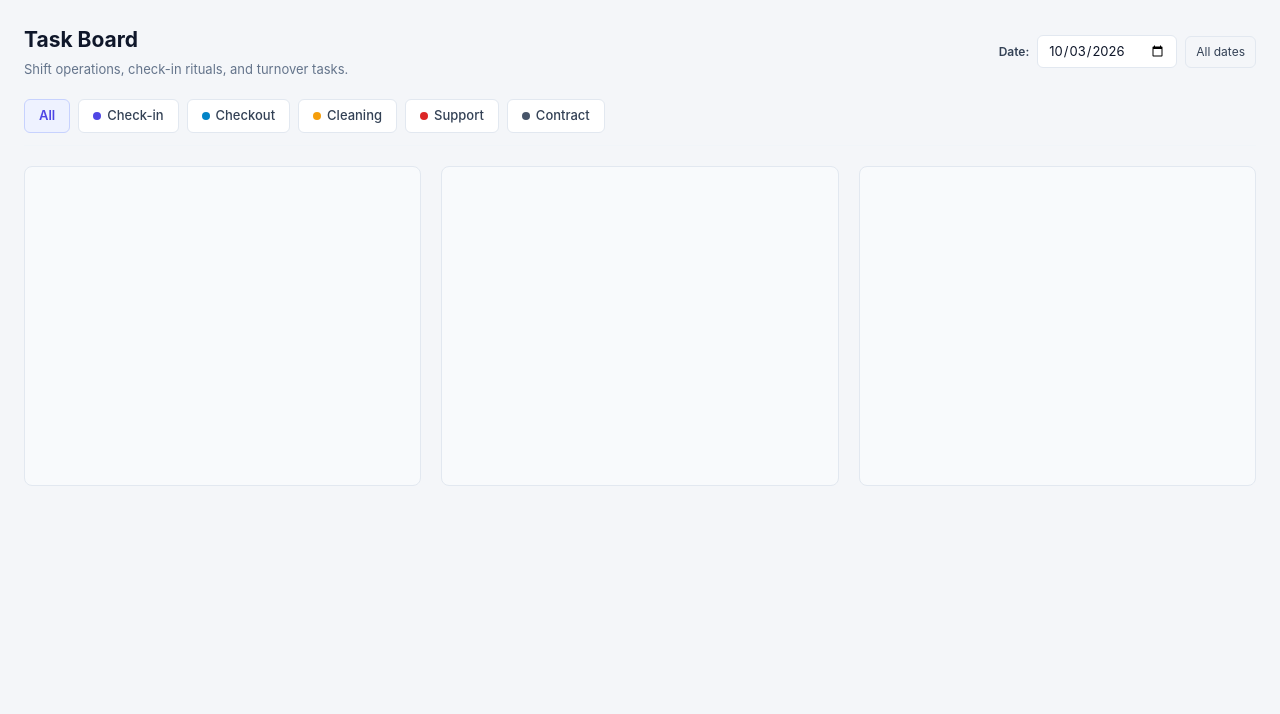
Test: Story 3.2: Kanban Task Board › moves task card to another column using accessible Move buttons and updates counts
Click the button with test id "all-dates-btn" at {"x": 1221, "y": 52}, box [1185,36,1256,68]
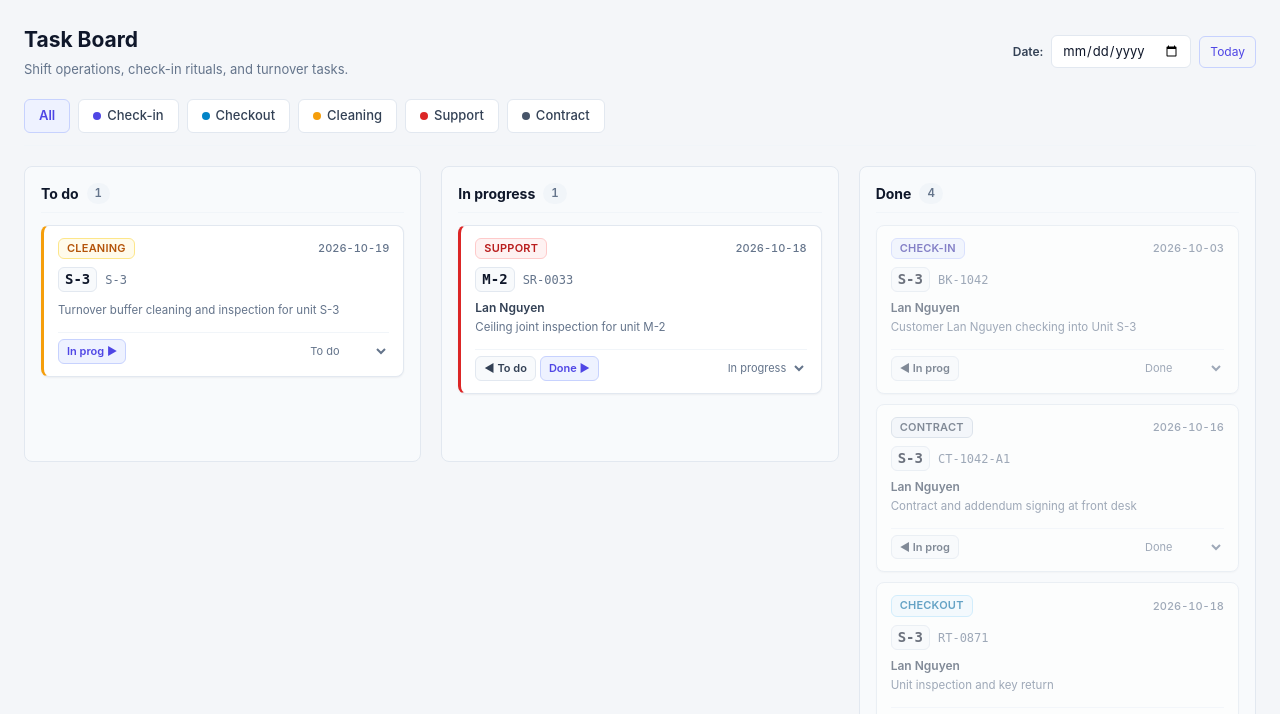
Check: the element with test id "task-card-4" is shown, box [41,225,404,377]
Check: the button with test id "move-right-4" is shown
Click the button with test id "move-right-4" at {"x": 92, "y": 351}, box [58,339,126,364]
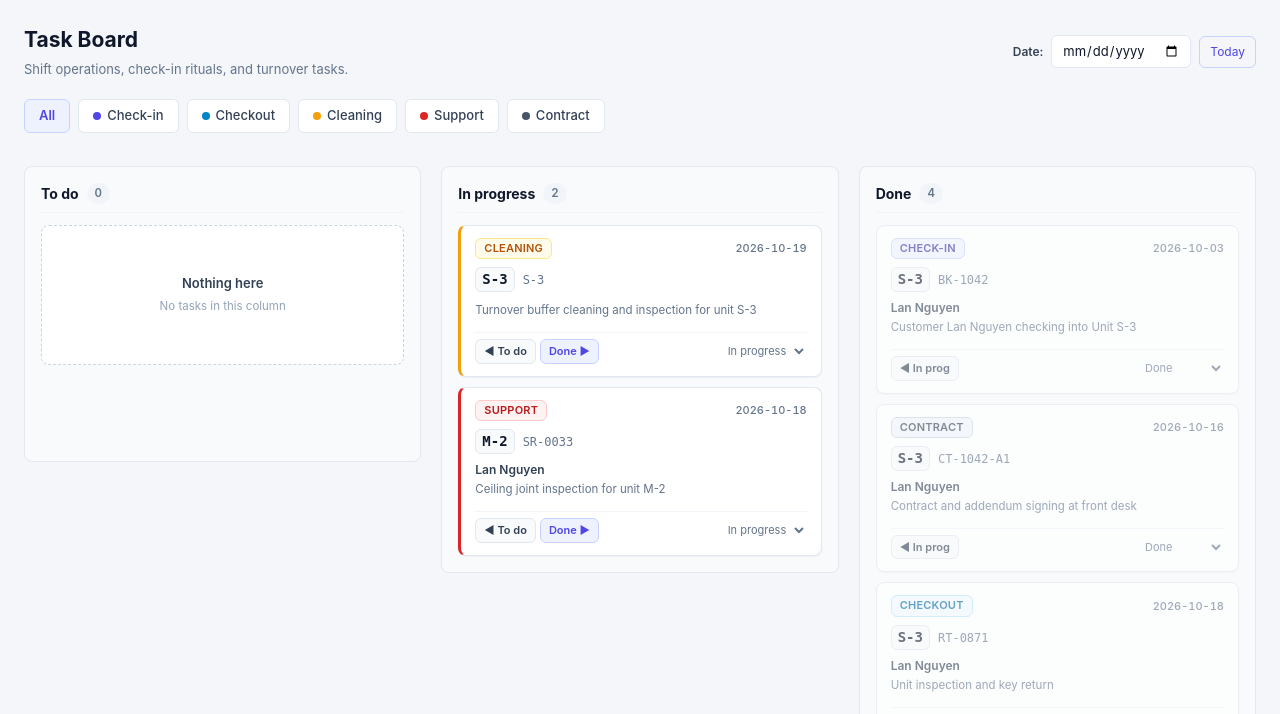
Check: the text with test id "column-count-todo" reads "0", box [95,186,102,200]
Check: the text with test id "column-count-in_progress" reads "2", box [551,186,559,200]
Check: the element with test id "empty-column-todo" is shown, box [41,225,404,365]
// Move task 4 to Done
Click the button with test id "move-right-4" at {"x": 569, "y": 351}, box [540,339,599,364]
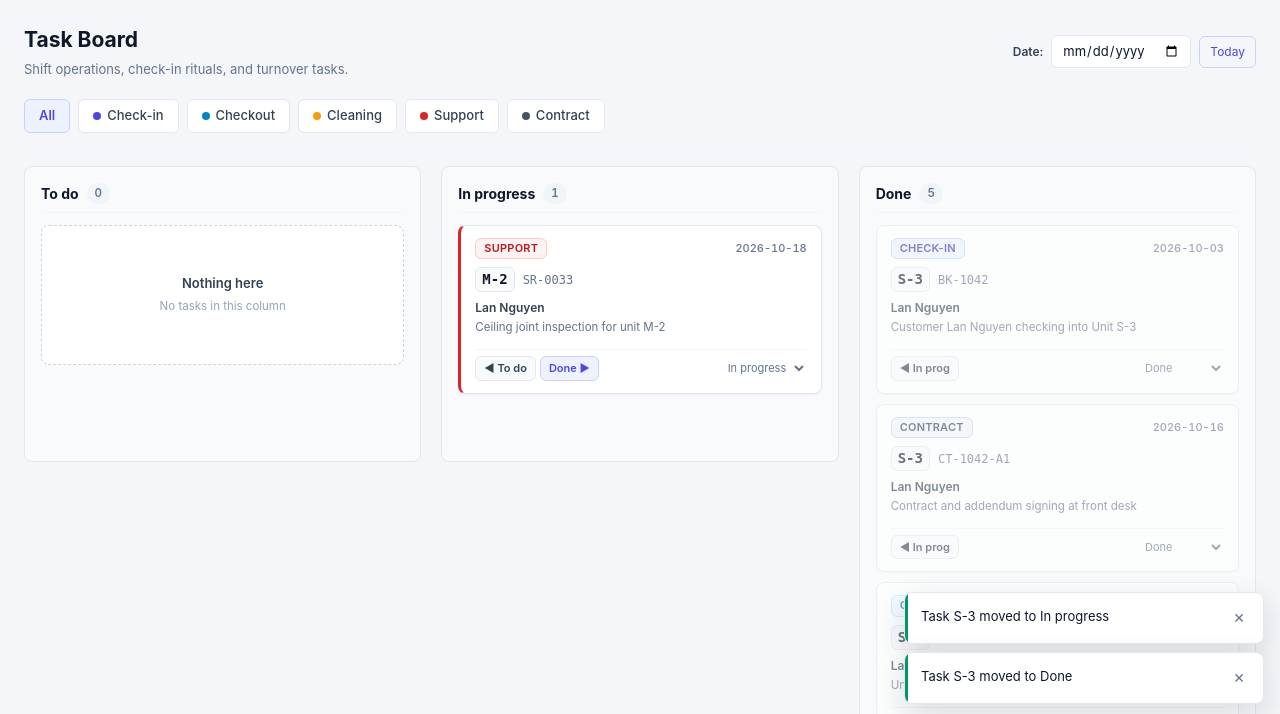
Check: the text with test id "column-count-in_progress" reads "1", box [551,186,559,200]
Check: the text with test id "column-count-done" reads "5", box [927,186,935,200]
